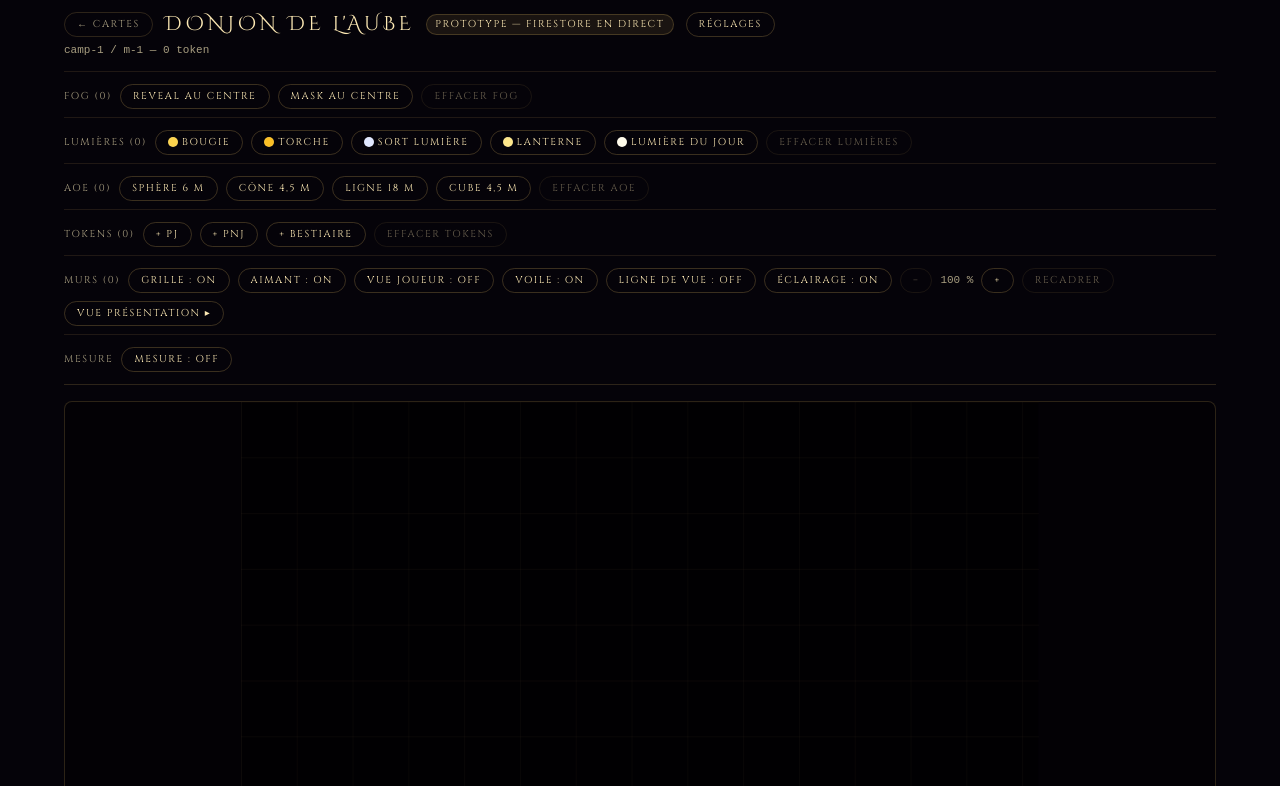
it: MapLiveScreen › mesure la distance à l'échelle RÉELLE de la carte (70 px/case → 14 px/ft), affichée en mètres
This screenshot has width=1280, height=786.
Click the button with test id "map-live-toggle-measure".
click(177, 359)  # box [121,346,232,372]
(page scrolled)
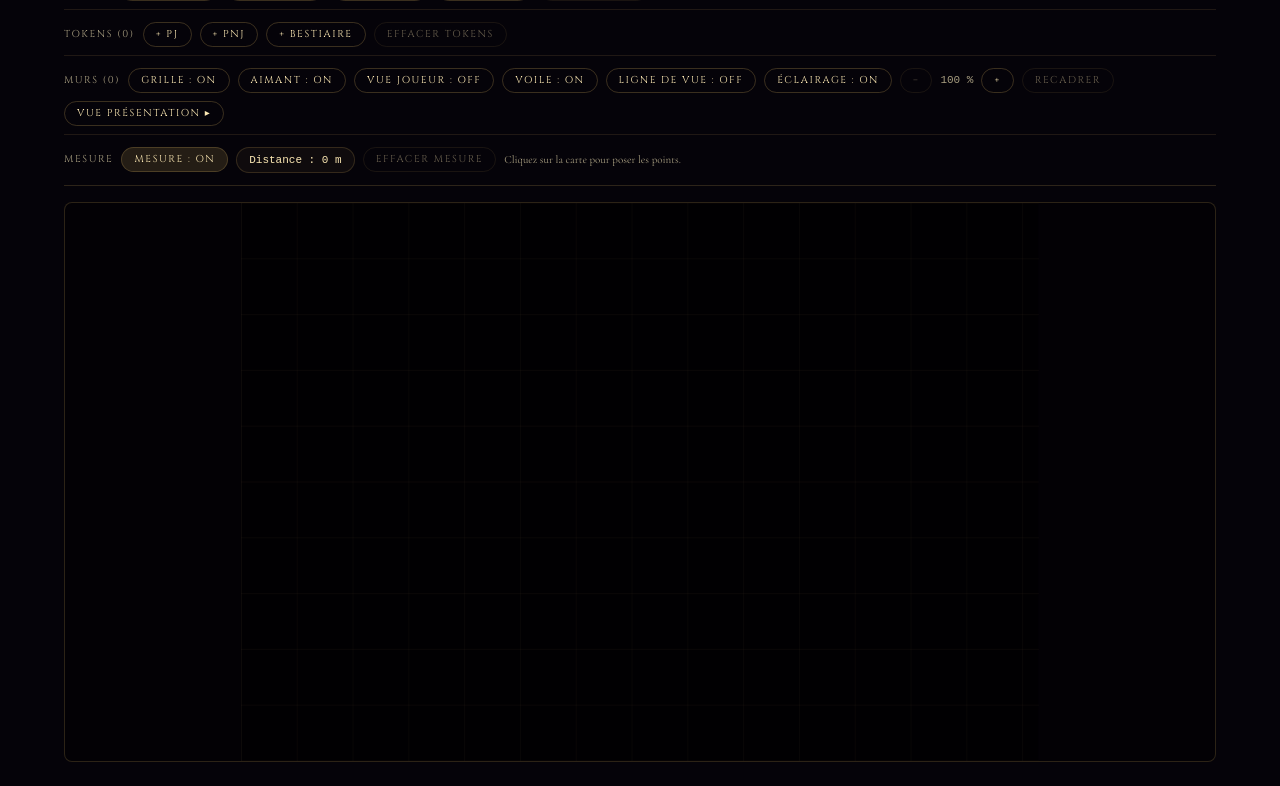
Press the mouse on the icon with test id "map-live-svg" at [640, 482], box [65,203,1215,761]
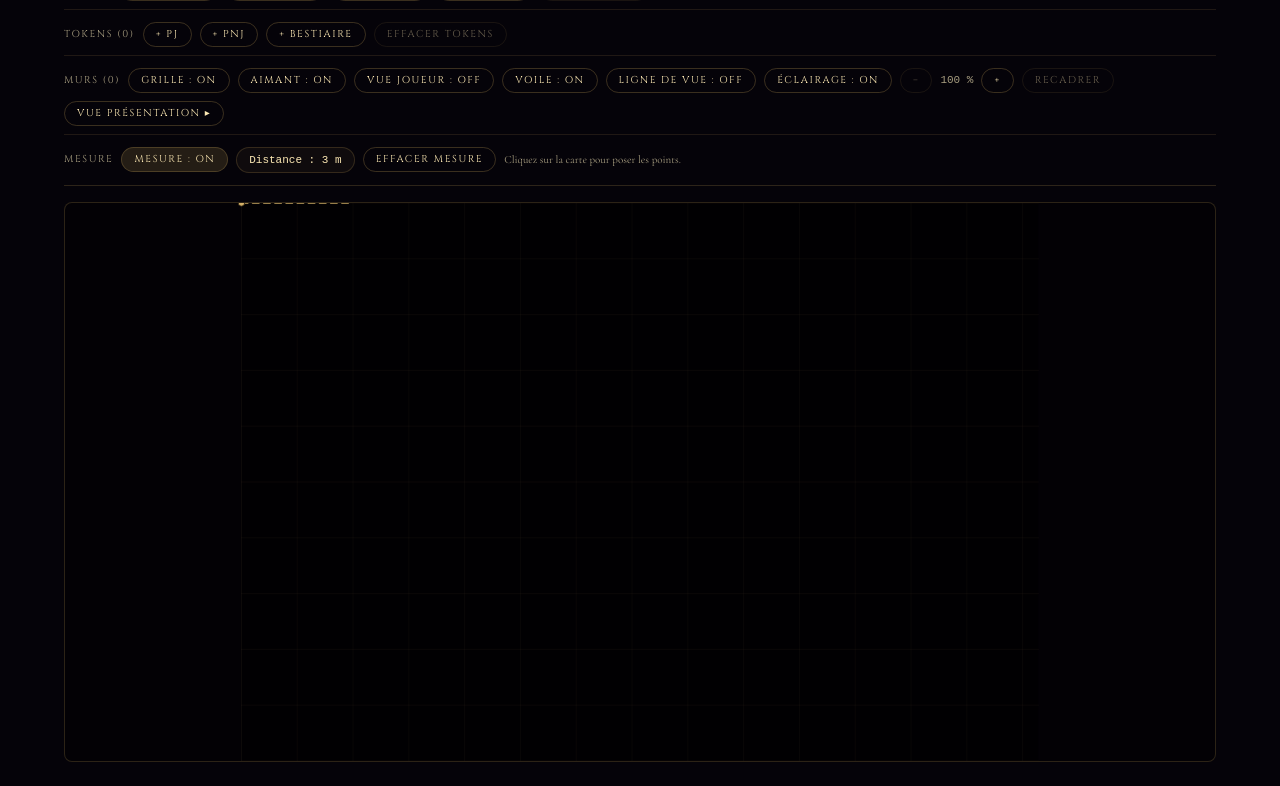
Check: the text with test id "map-live-ruler-total" shows "3 m", box [322,154,342,166]
